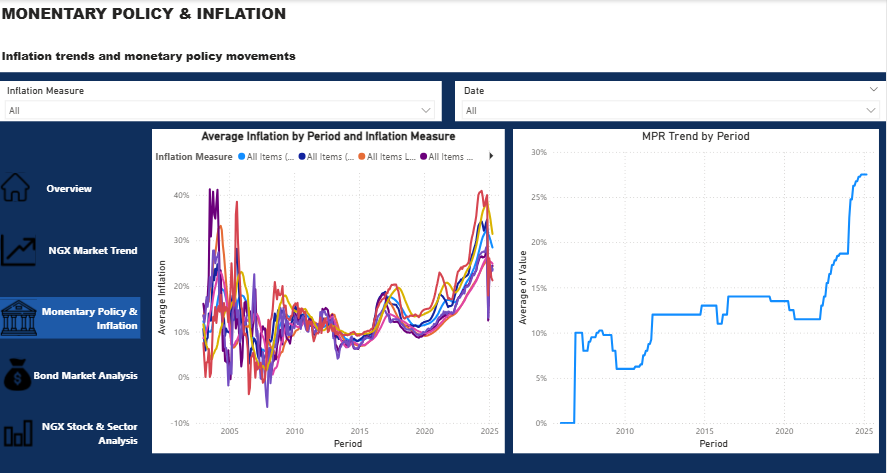

Layout of this report page (visuals, bound fields, positions):
{"tool":"powerbi","page":{"name":"Monentary Policy & Inflation","canvas":[1280,720],"ordinal":2},"visuals":[{"type":"lineChart","fields":{"Category":["Fact_Inflation.Period"],"Y":["Fact_Inflation.Average Inflation"],"Series":["Fact_Inflation.Inflation Measure"]},"box":[221.8,185.8,508.3,466.6],"z":0},{"type":"lineChart","title":"MPR Trend by Period","fields":{"Category":["Fact_MoneyMarket.Period"],"Y":["Avg(Fact_MoneyMarket.Value)"]},"box":[741.6,185.8,527,466.6],"z":1000},{"type":"actionButton","box":[0,244.4,205.1,49.6],"z":2000},{"type":"actionButton","box":[0,331.5,205.1,58.1],"z":3000},{"type":"actionButton","box":[0,427.2,205.1,59.8],"z":4000},{"type":"actionButton","box":[0,511,205.1,56.4],"z":5000},{"type":"actionButton","box":[0,594.7,205.1,58.1],"z":6000},{"type":"textbox","box":[0,0,1280.2,103.7],"z":7000},{"type":"slicer","fields":{"Values":["Fact_Inflation.Inflation Measure"]},"box":[0,116.6,639.4,57.6],"z":8000},{"type":"slicer","fields":{"Values":["Dim_Date.Date"]},"box":[658.1,116.6,622.1,57.6],"z":9000}]}

Visuals, with their boxes on the page's 1280x720 design canvas (x1, y1, x2, y2). These are canvas units, not pixel positions in the 887x473 screenshot, which may show the page scaled, cropped or inside an application window:
lineChart - Fact_Inflation.Period x Fact_Inflation.Average Inflation: x1=222 y1=186 x2=730 y2=652
"MPR Trend by Period" lineChart: x1=742 y1=186 x2=1269 y2=652
actionButton: x1=0 y1=244 x2=205 y2=294
actionButton: x1=0 y1=332 x2=205 y2=390
actionButton: x1=0 y1=427 x2=205 y2=487
actionButton: x1=0 y1=511 x2=205 y2=567
actionButton: x1=0 y1=595 x2=205 y2=653
textbox: x1=0 y1=0 x2=1280 y2=104
slicer - Fact_Inflation.Inflation Measure: x1=0 y1=117 x2=639 y2=174
slicer - Dim_Date.Date: x1=658 y1=117 x2=1280 y2=174
